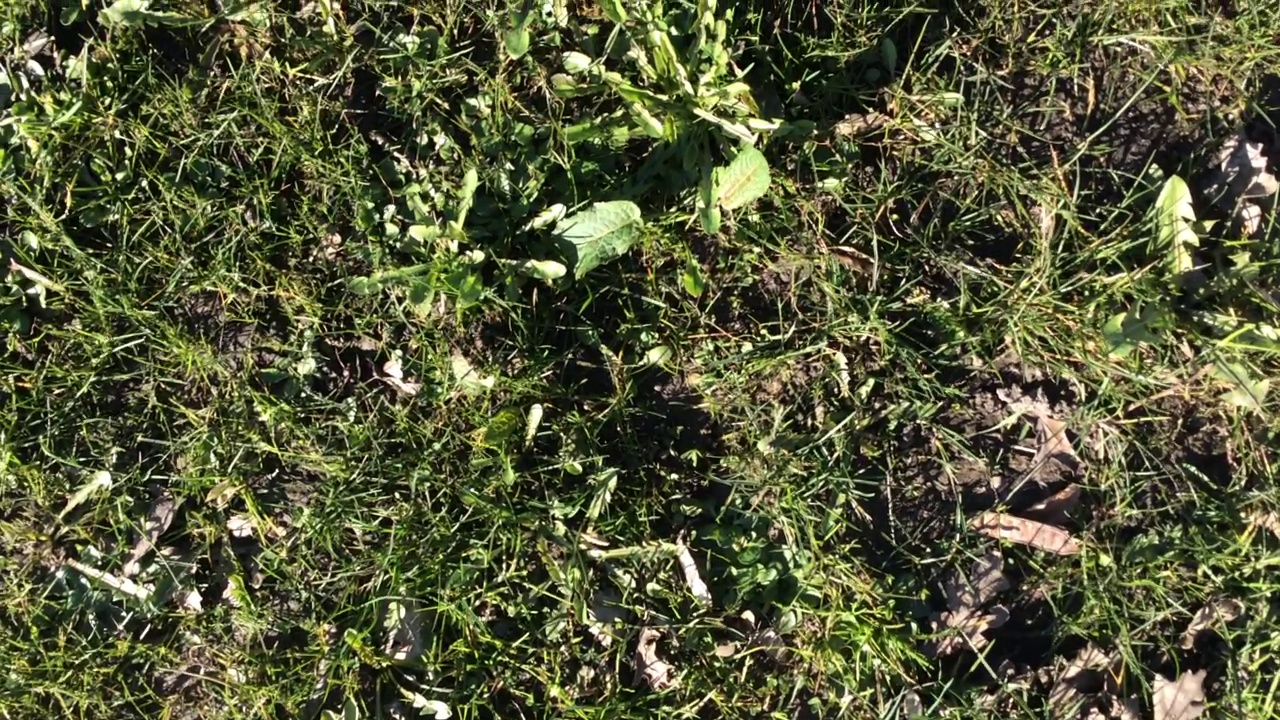rumex: (536, 200, 642, 270), (695, 148, 769, 212)
